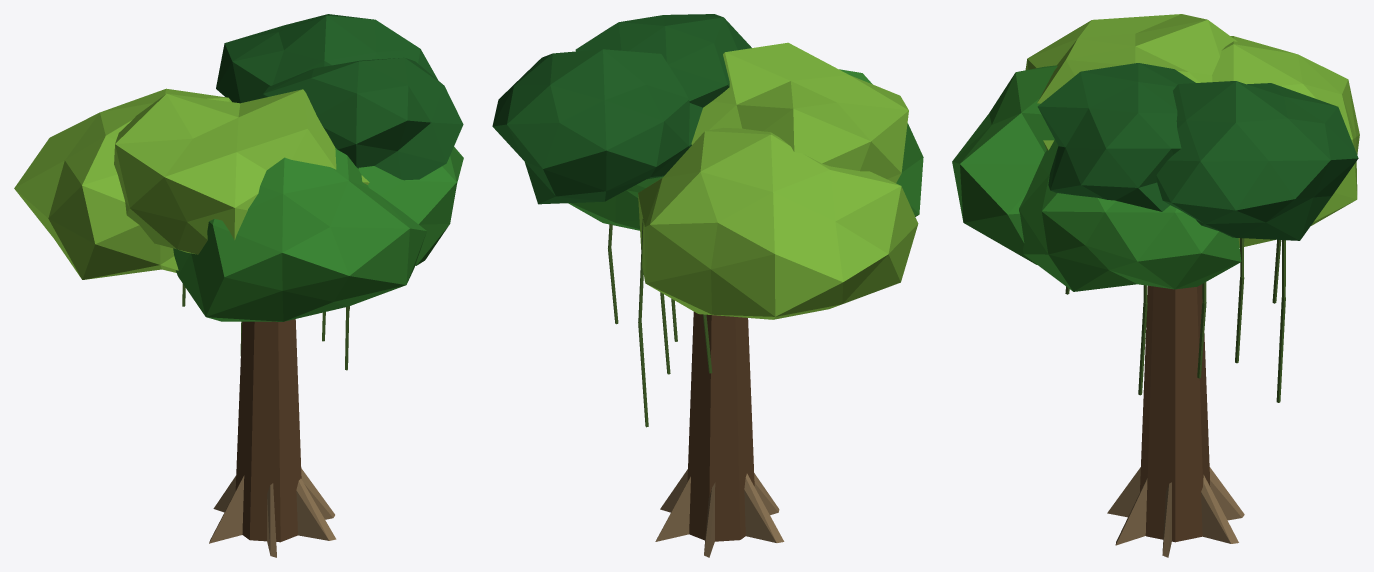
File: tree_large.glb
3 renders of one model, left to right at view 1: azimuth 30°, elevation 25°; view 2: azimuth 150°, elevation 25°; view 3: azimuth 270°, elevation 25°, orthographic. The views are drawn at different scales.
Parts seen in each view (by area): view 1: leaf_light, leaf, leaf_dark, bark-col, bark_light; view 2: leaf_light, leaf_dark, bark-col, bark_light, leaf, vine; view 3: leaf_dark, leaf, leaf_light, bark-col, bark_light, vine.
Part boxes in pixels (x1,y1,x2,y2): leaf_light: [14, 88, 369, 279]; leaf: [173, 147, 463, 321]; leaf_dark: [216, 14, 463, 180]; bark-col: [235, 319, 301, 542]; bark_light: [209, 468, 336, 557]; leaf_light: [638, 42, 918, 319]; leaf_dark: [492, 14, 751, 204]; bark-col: [687, 312, 754, 541]; bark_light: [655, 469, 784, 557]; leaf: [568, 69, 923, 230]; vine: [608, 218, 712, 427]; leaf_dark: [1037, 63, 1358, 240]; leaf: [952, 65, 1241, 291]; leaf_light: [1025, 14, 1359, 247]; bark-col: [1140, 284, 1210, 542]; bark_light: [1107, 467, 1244, 557]; vine: [1065, 238, 1285, 402].
Size of the model in its own units: 8.57 by 10.08 by 7.62.
